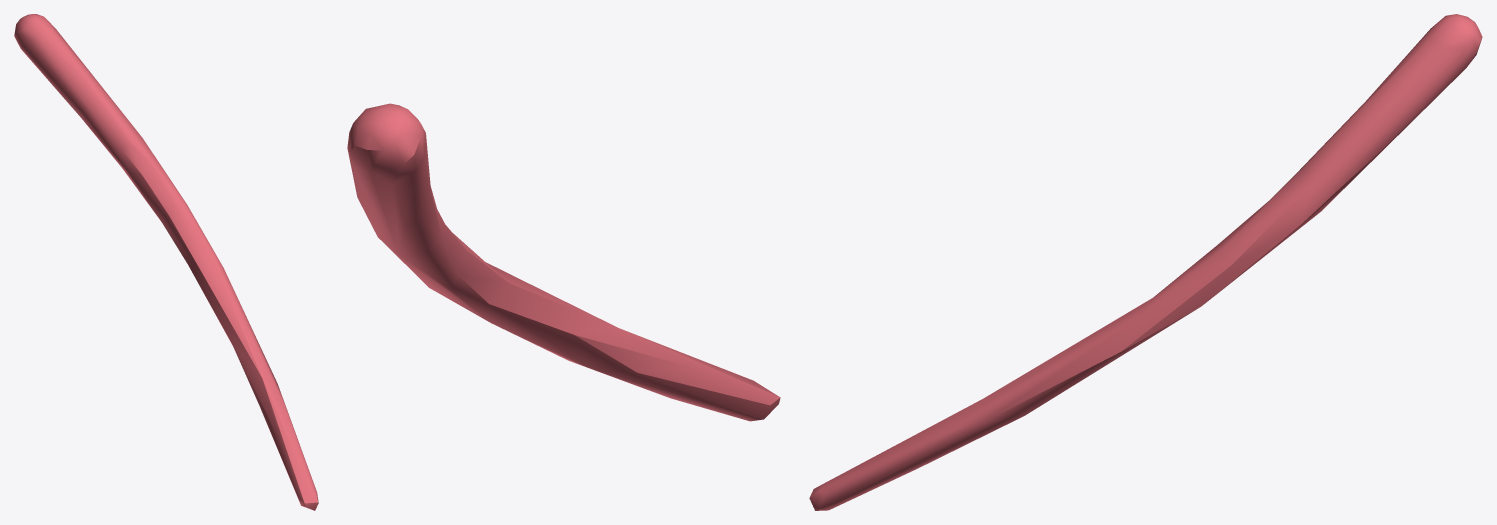
File: fma8669_fj6004.glb
3 renders of one model, left to right at view 1: azimuth 30°, elevation 25°; view 2: azimuth 150°, elevation 25°; view 3: azimuth 270°, elevation 25°, orthographic. The views are drawn at different scales.
Parts seen in each view (by area): view 1: FMA8669_FJ6004; view 2: FMA8669_FJ6004; view 3: FMA8669_FJ6004.
Part boxes in pixels (x1=…): FMA8669_FJ6004: x1=14, y1=14, x2=318, y2=510; FMA8669_FJ6004: x1=347, y1=103, x2=780, y2=421; FMA8669_FJ6004: x1=809, y1=14, x2=1482, y2=510.
Size of the model in its own units: 0.00793 by 0.0269 by 0.0355.
